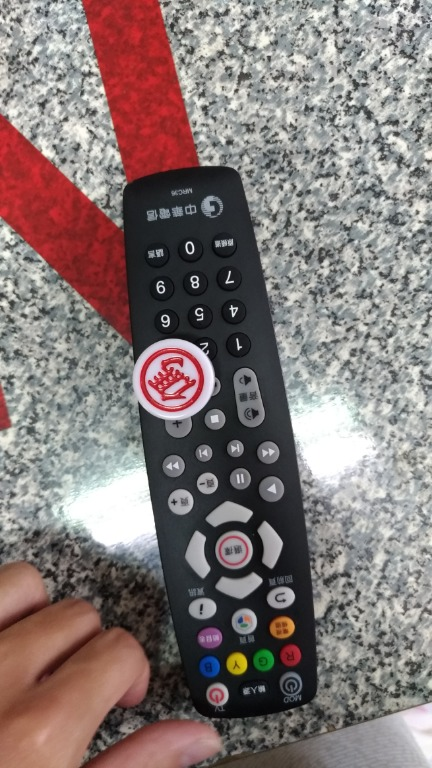r-knight: (130, 336, 222, 429)
